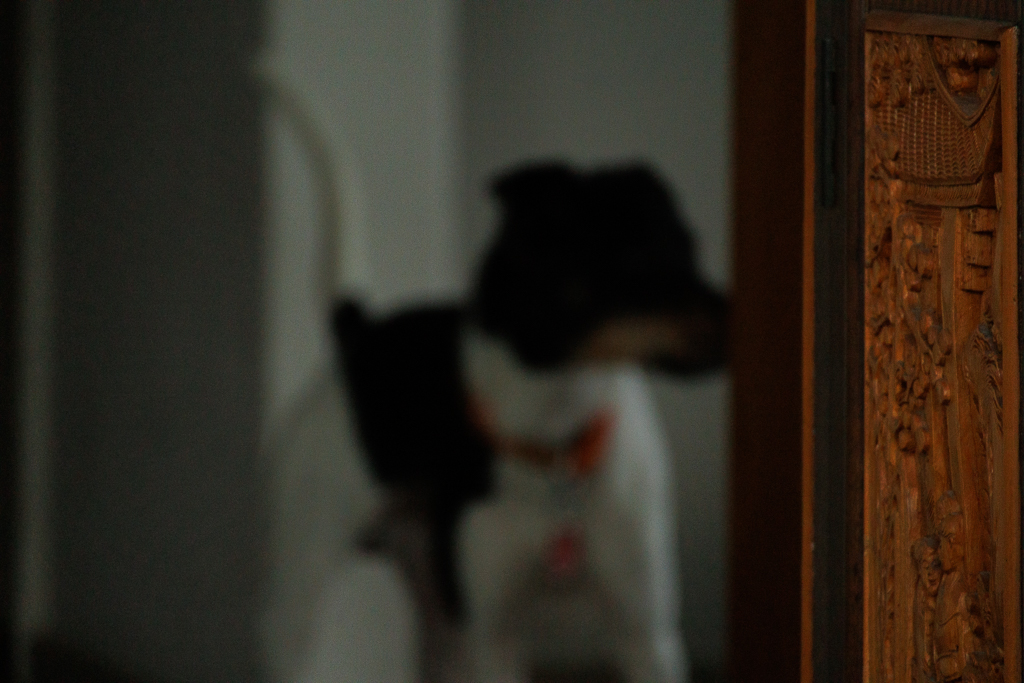Dog: (216, 40, 761, 683)
